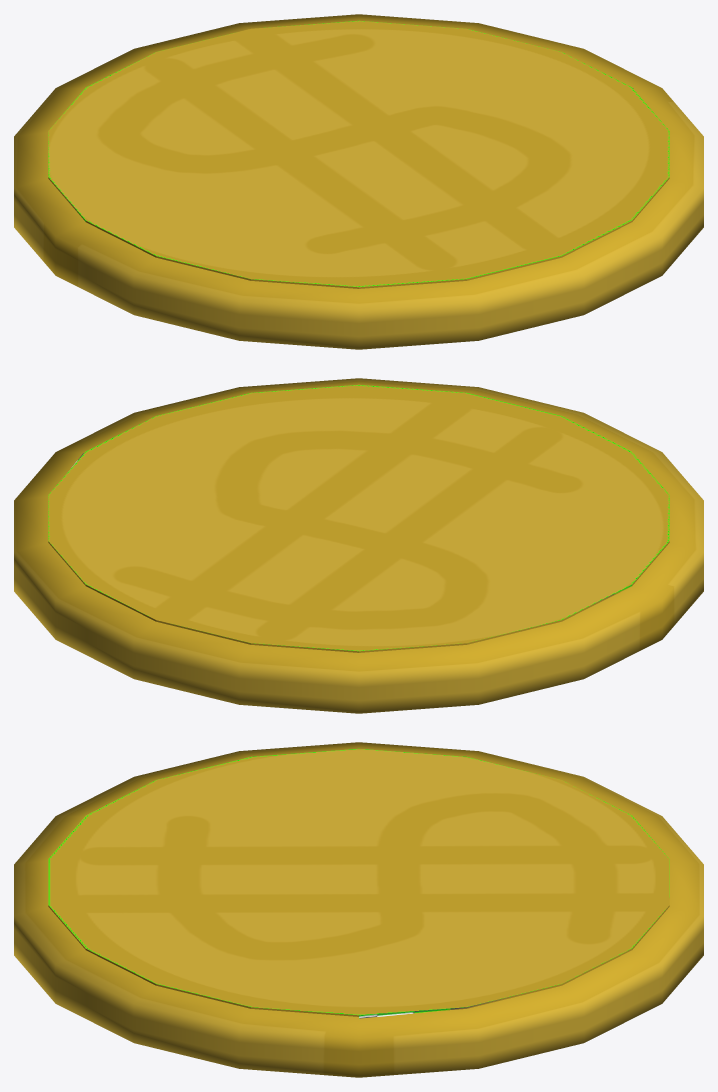
File: Coin asset.fbx
3 renders of one model, top to bottom at view 1: azimuth 30°, elevation 25°; view 2: azimuth 150°, elevation 25°; view 3: azimuth 270°, elevation 25°, orthographic.
Visible parts, largest first — view 1: Cylinder001; view 2: Cylinder001; view 3: Cylinder001.
Part boxes in pixels (x1,y1,x2,y2): Cylinder001: (14,14,703,349); Cylinder001: (14,378,703,713); Cylinder001: (14,742,703,1077).
Bounding box in the file's own units: 38.68 × 3.52 × 38.09.
1 material, 1 textured.
